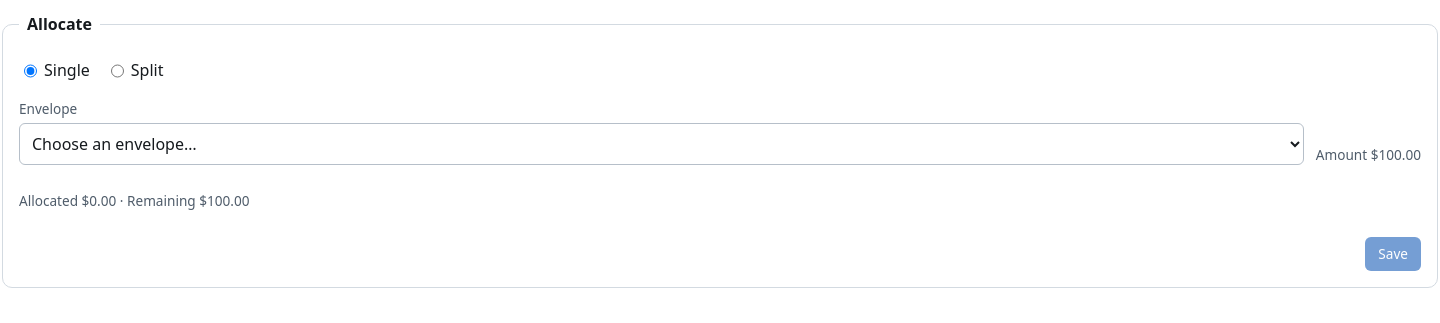
AllocationEditor (split UX — SPIKE-01) › over-allocation disables save and shows a warning
The image size is (1440, 323).
Click the radio button labelled "Split".
click(117, 71)  # box top-left (111, 55), bottom-right (124, 87)
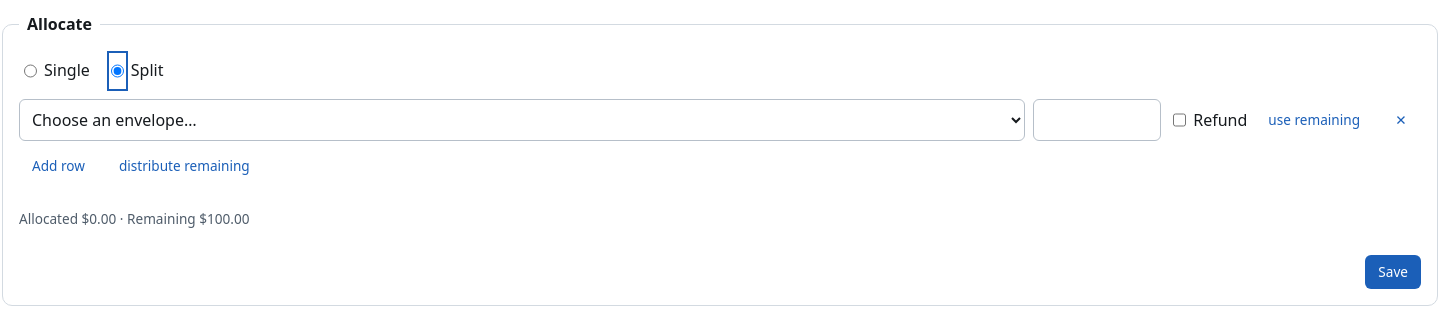
Select "Rent" in the dropdown named "Envelope for row 1" at (522, 120), box top-left (19, 99), bottom-right (1025, 141)
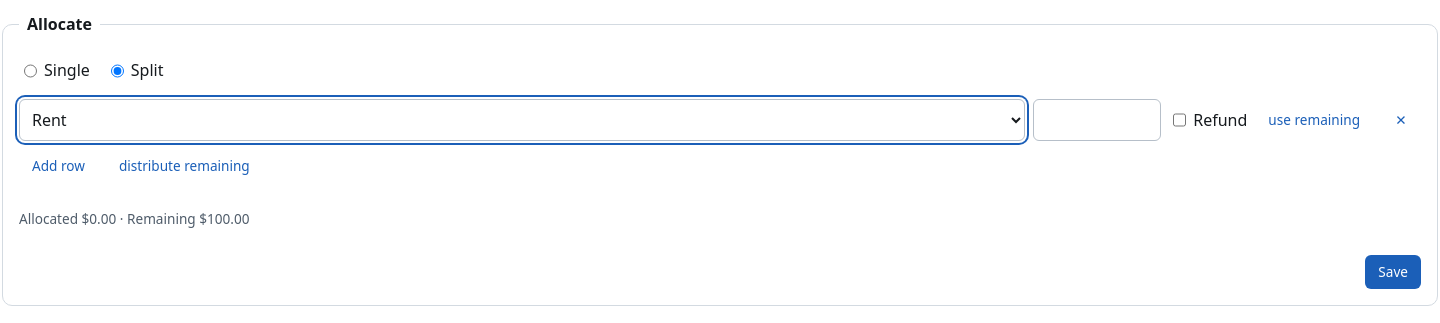
Type "150.00" into the field named "Amount for row 1".
click(1097, 120); type("150.00")  # box top-left (1033, 99), bottom-right (1161, 141)
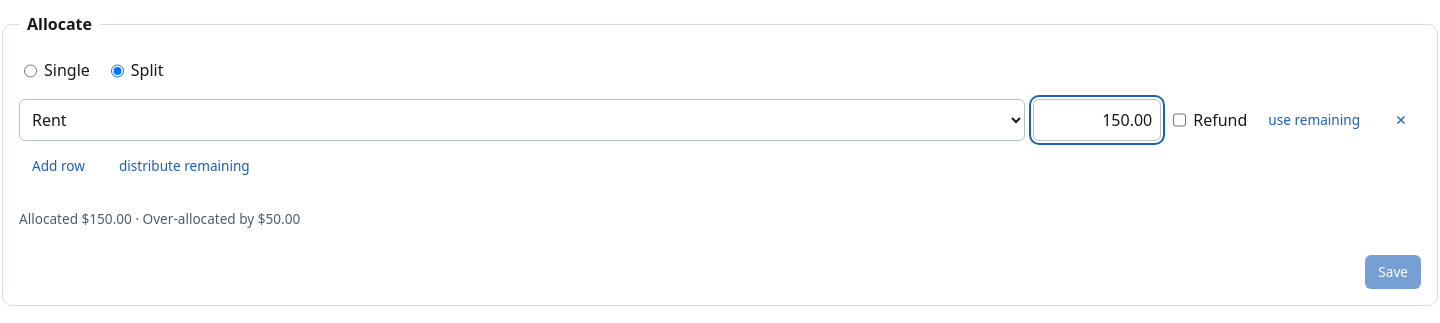
Now the text "Allocated $150.00 · Over-allocated by $50.00" is shown, box top-left (19, 209), bottom-right (300, 228)
Now the button "Save" is disabled, box top-left (1365, 255), bottom-right (1421, 289)
